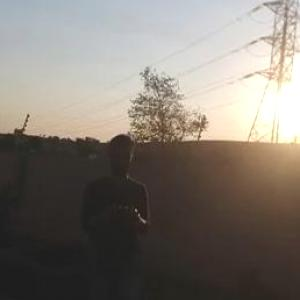follow: (76, 130, 154, 299)
